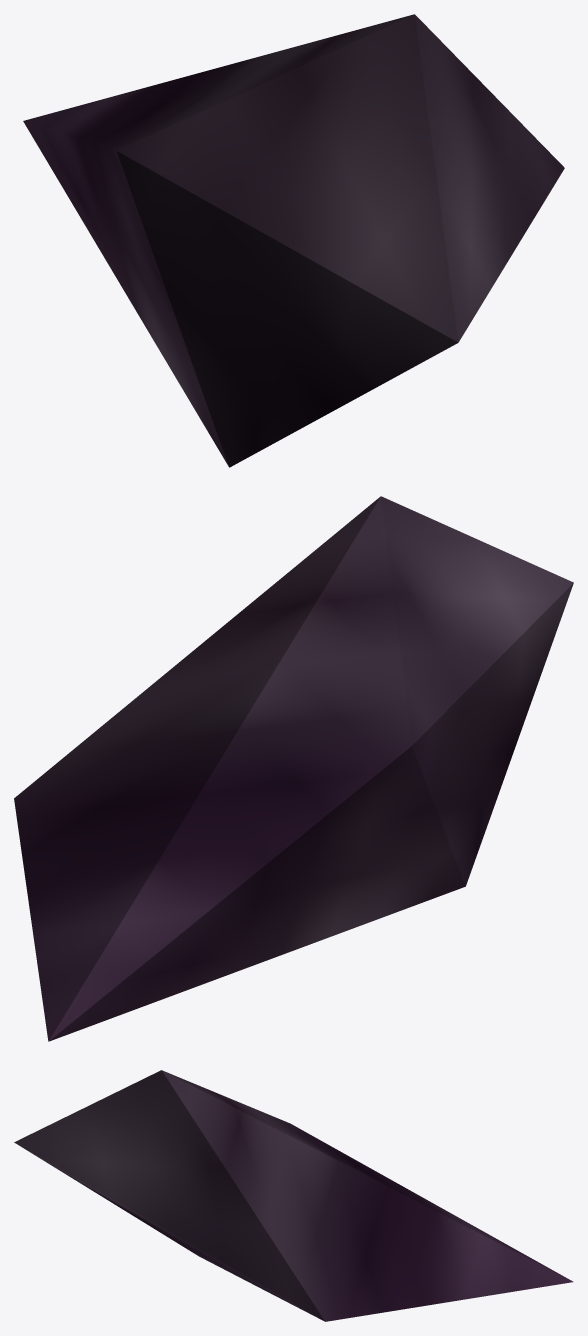
File: condra_7_stone_6.glb
The picture shows the model from 3 angles, top to bottom: view 1: azimuth 30°, elevation 25°; view 2: azimuth 150°, elevation 25°; view 3: azimuth 270°, elevation 25°; orthographic projection. The views are drawn at different scales.
Visible parts, largest first — view 1: model_condra_7_stone_6; view 2: model_condra_7_stone_6; view 3: model_condra_7_stone_6.
Boxes of the visible parts, x1,y1,x2,y2 form: model_condra_7_stone_6: (23, 14, 564, 467); model_condra_7_stone_6: (14, 496, 573, 1041); model_condra_7_stone_6: (14, 1070, 573, 1321).
Size of the model in its own units: 0.0695 by 0.0611 by 0.1394.
1 material, 1 textured.
